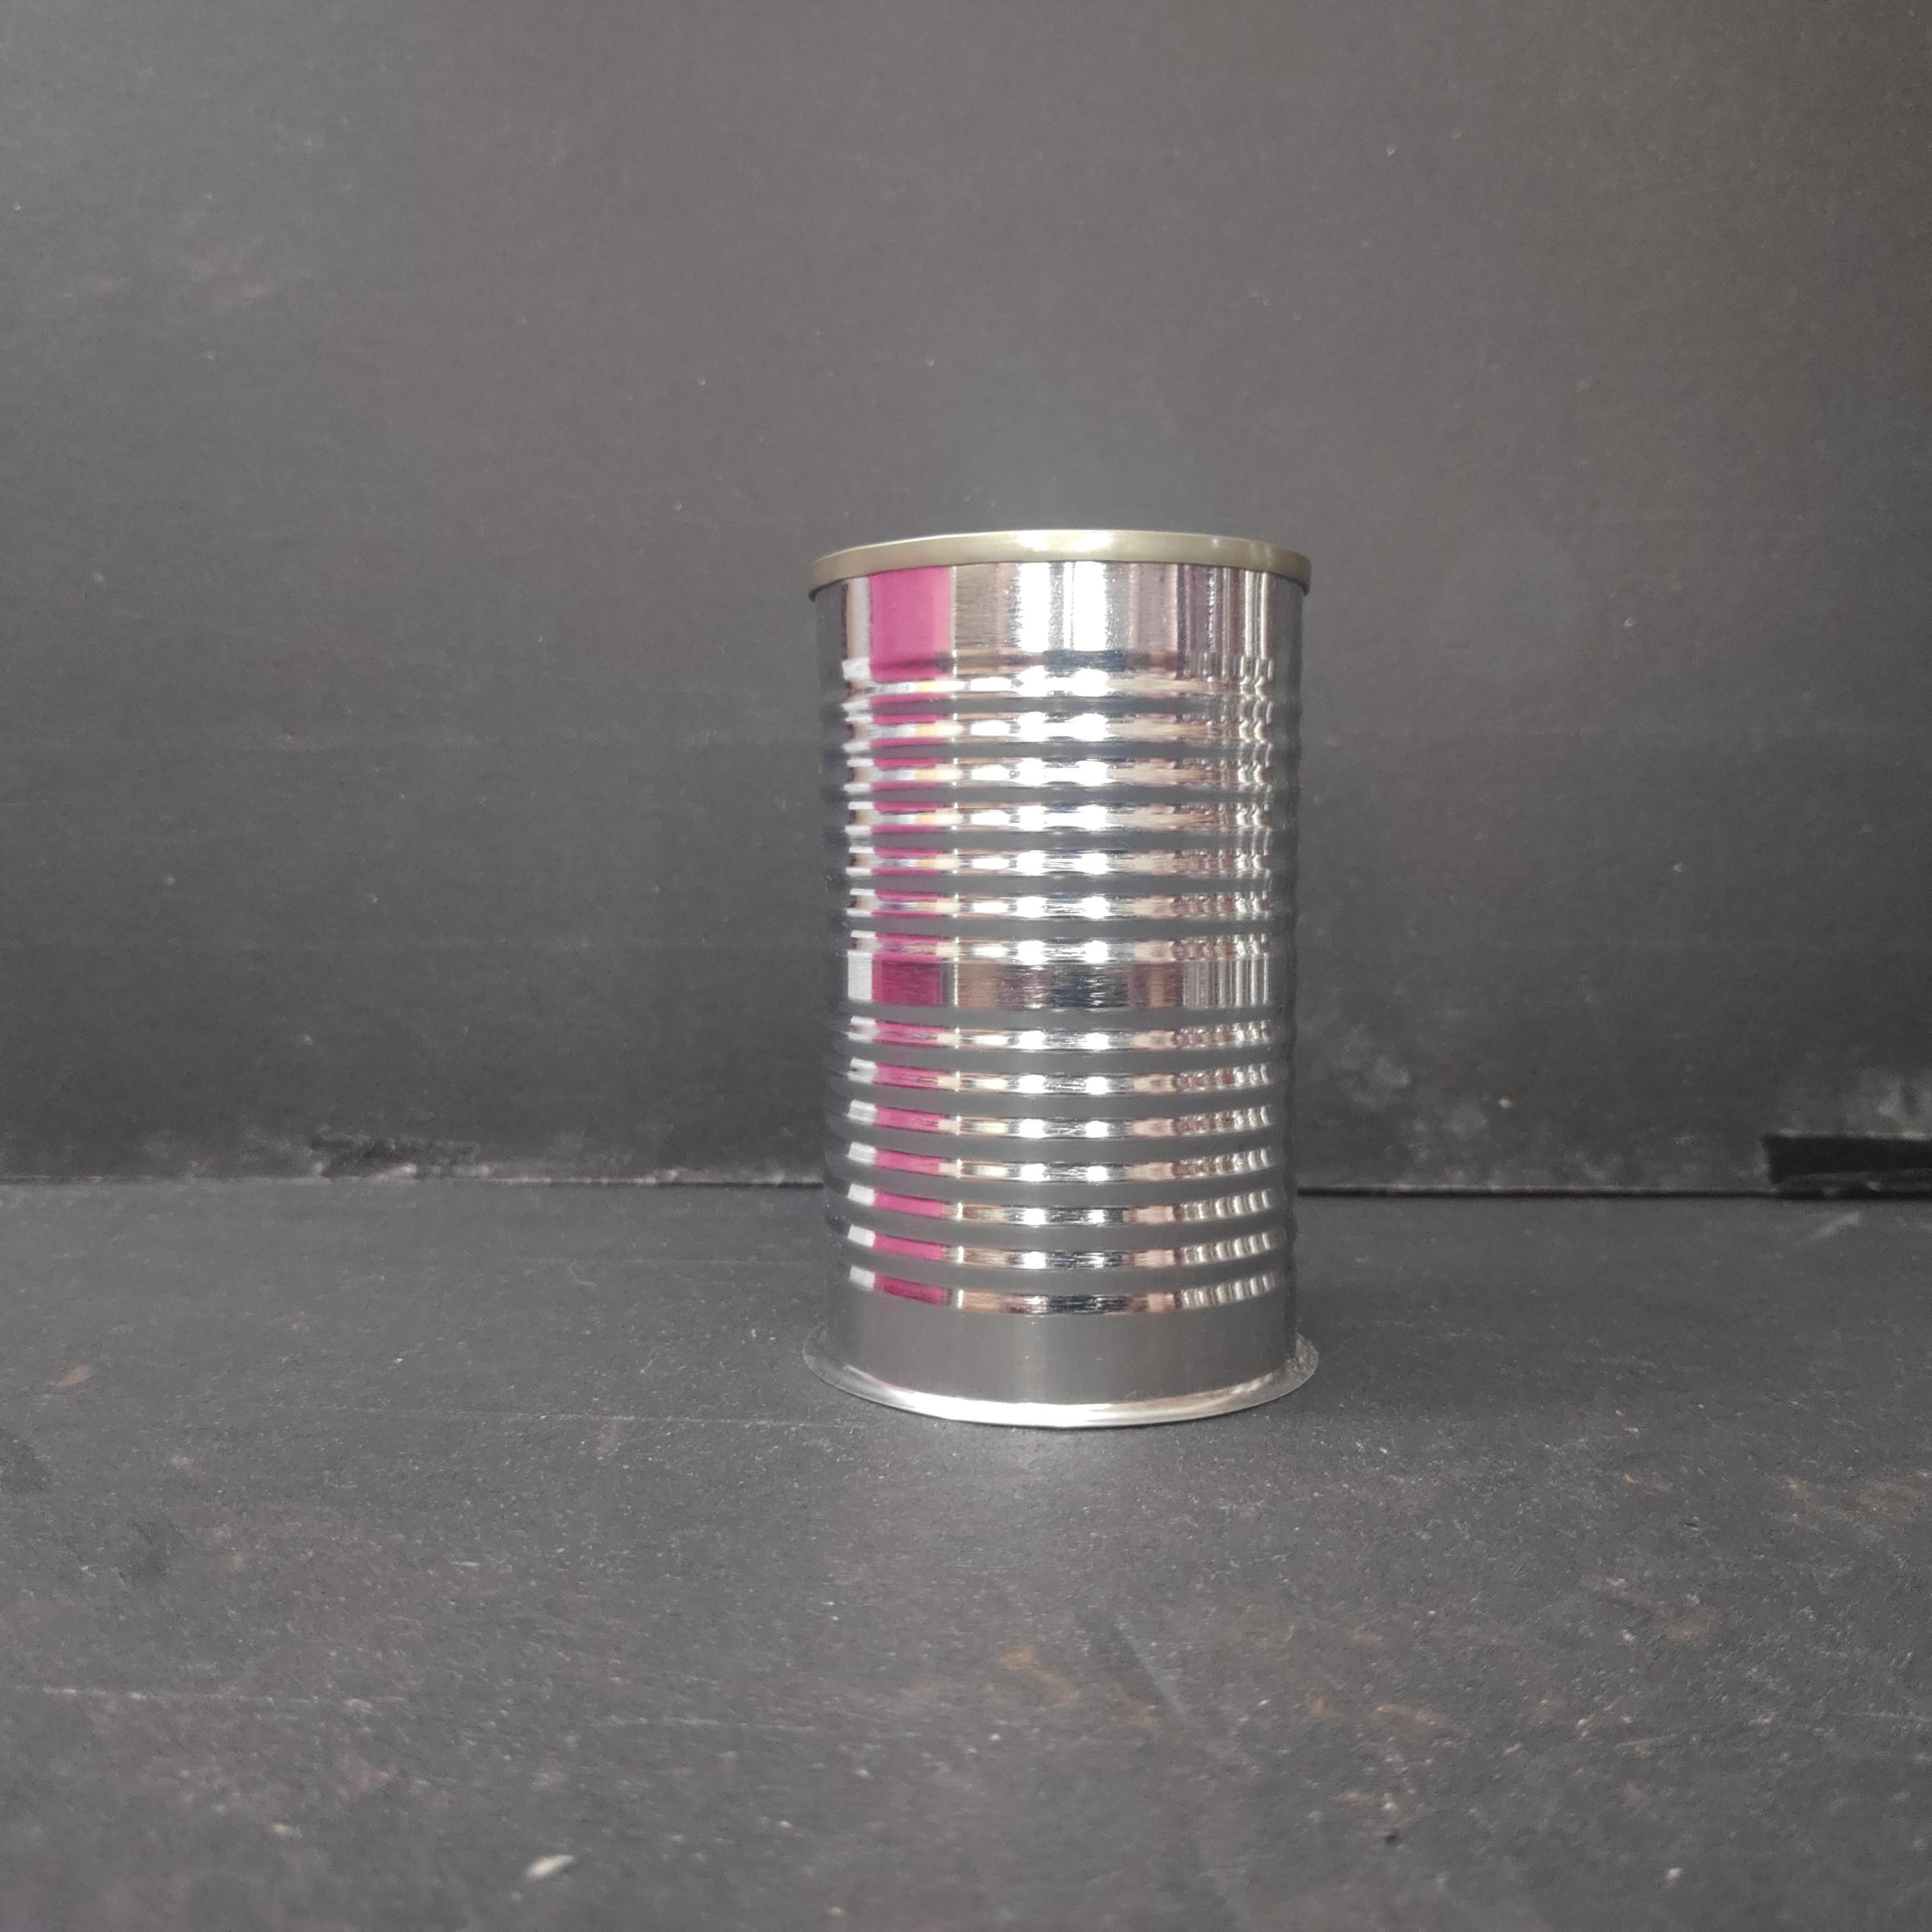No defect: (800, 525, 1327, 1433)
